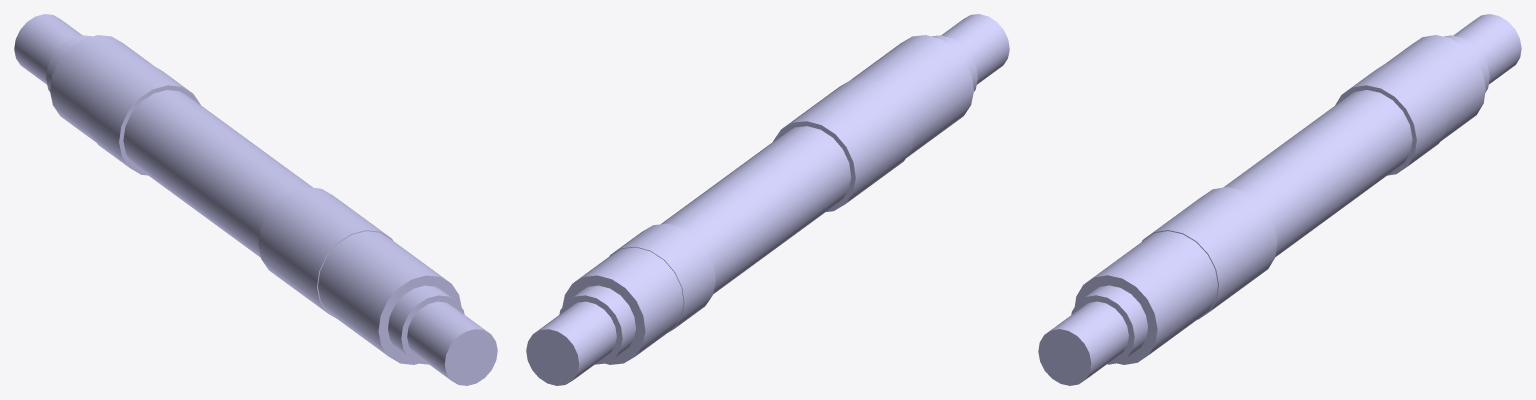
The picture shows the model from 3 angles, left to right: view 1: azimuth 30°, elevation 25°; view 2: azimuth 150°, elevation 25°; view 3: azimuth 330°, elevation 25°; orthographic projection.
Visible parts, largest first — view 1: PartBody; view 2: PartBody; view 3: PartBody.
Boxes of the visible parts, box(x1,y1,x2,y2) form: PartBody: box(14, 14, 497, 385); PartBody: box(526, 14, 1009, 385); PartBody: box(1038, 14, 1521, 385).
Bounding box in the file's own units: 10.15 × 10.04 × 88.5.
